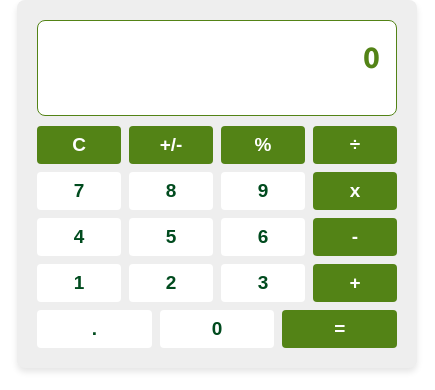
Test case: Calculator › performs a simple addition
The width and height of the screenshot is (435, 390).
Click the button "1" at {"x": 79, "y": 283}, box 37,264 -> 121,302
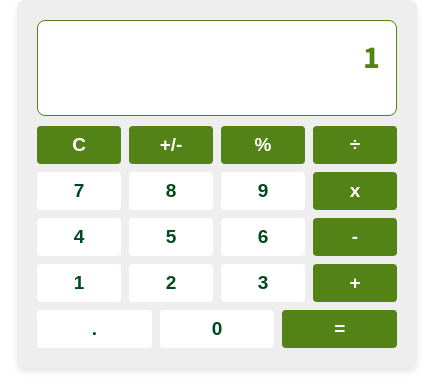
Click the button "+" at {"x": 355, "y": 283}, box 313,264 -> 397,302
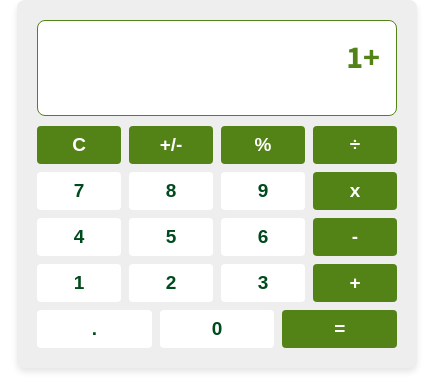
Click the button "2" at {"x": 171, "y": 283}, box 129,264 -> 213,302
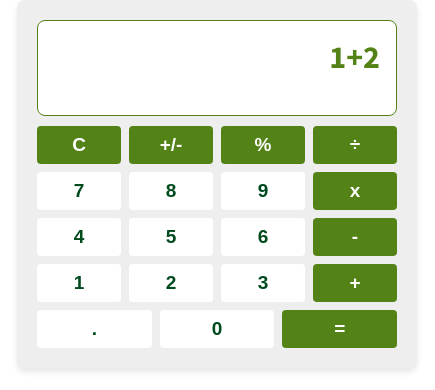
Click the button "=" at {"x": 340, "y": 329}, box 282,310 -> 397,348
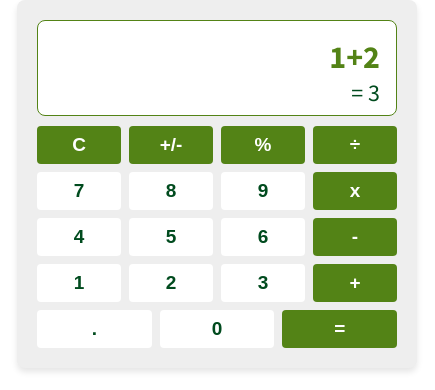
Expected: the text with test id "displayOutput" shows "3", 351,77 -> 380,108
